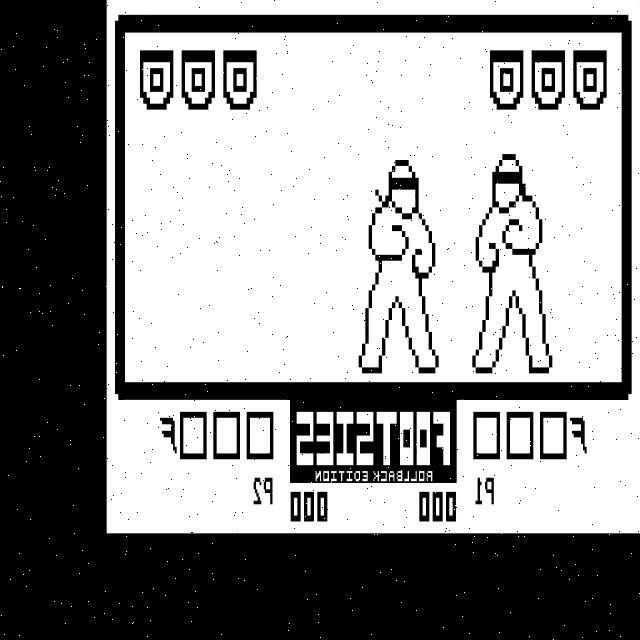Idle: (463, 148, 566, 378), (357, 156, 442, 375)
